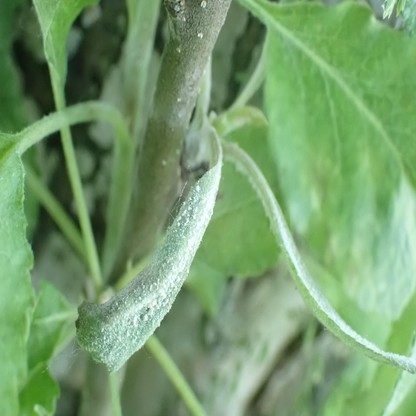powder: (75, 125, 223, 373)
scab: (295, 144, 340, 210), (326, 240, 371, 293)
